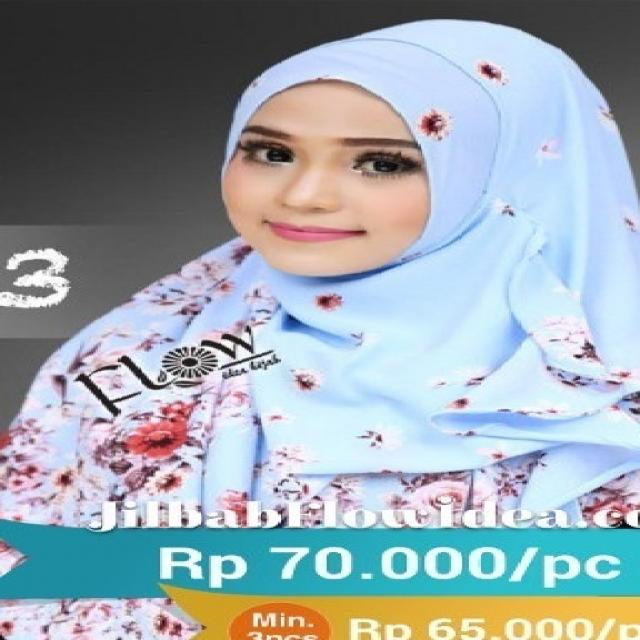head: (214, 20, 610, 285)
